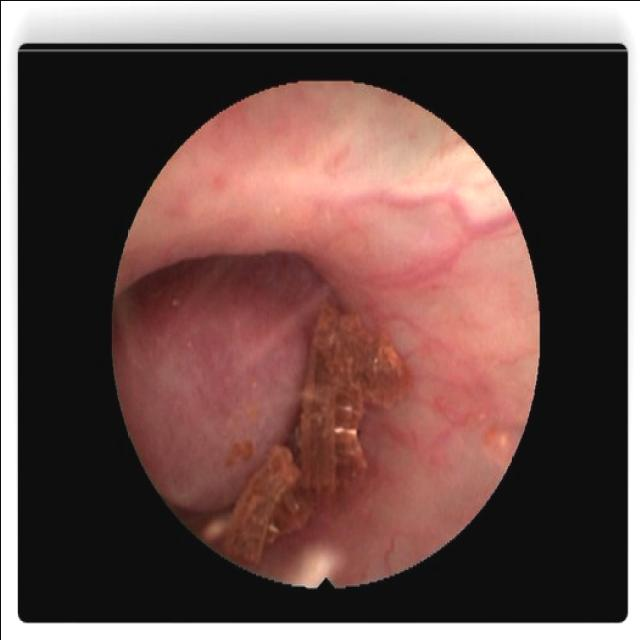stone: (298, 309, 403, 489), (229, 444, 313, 560)
